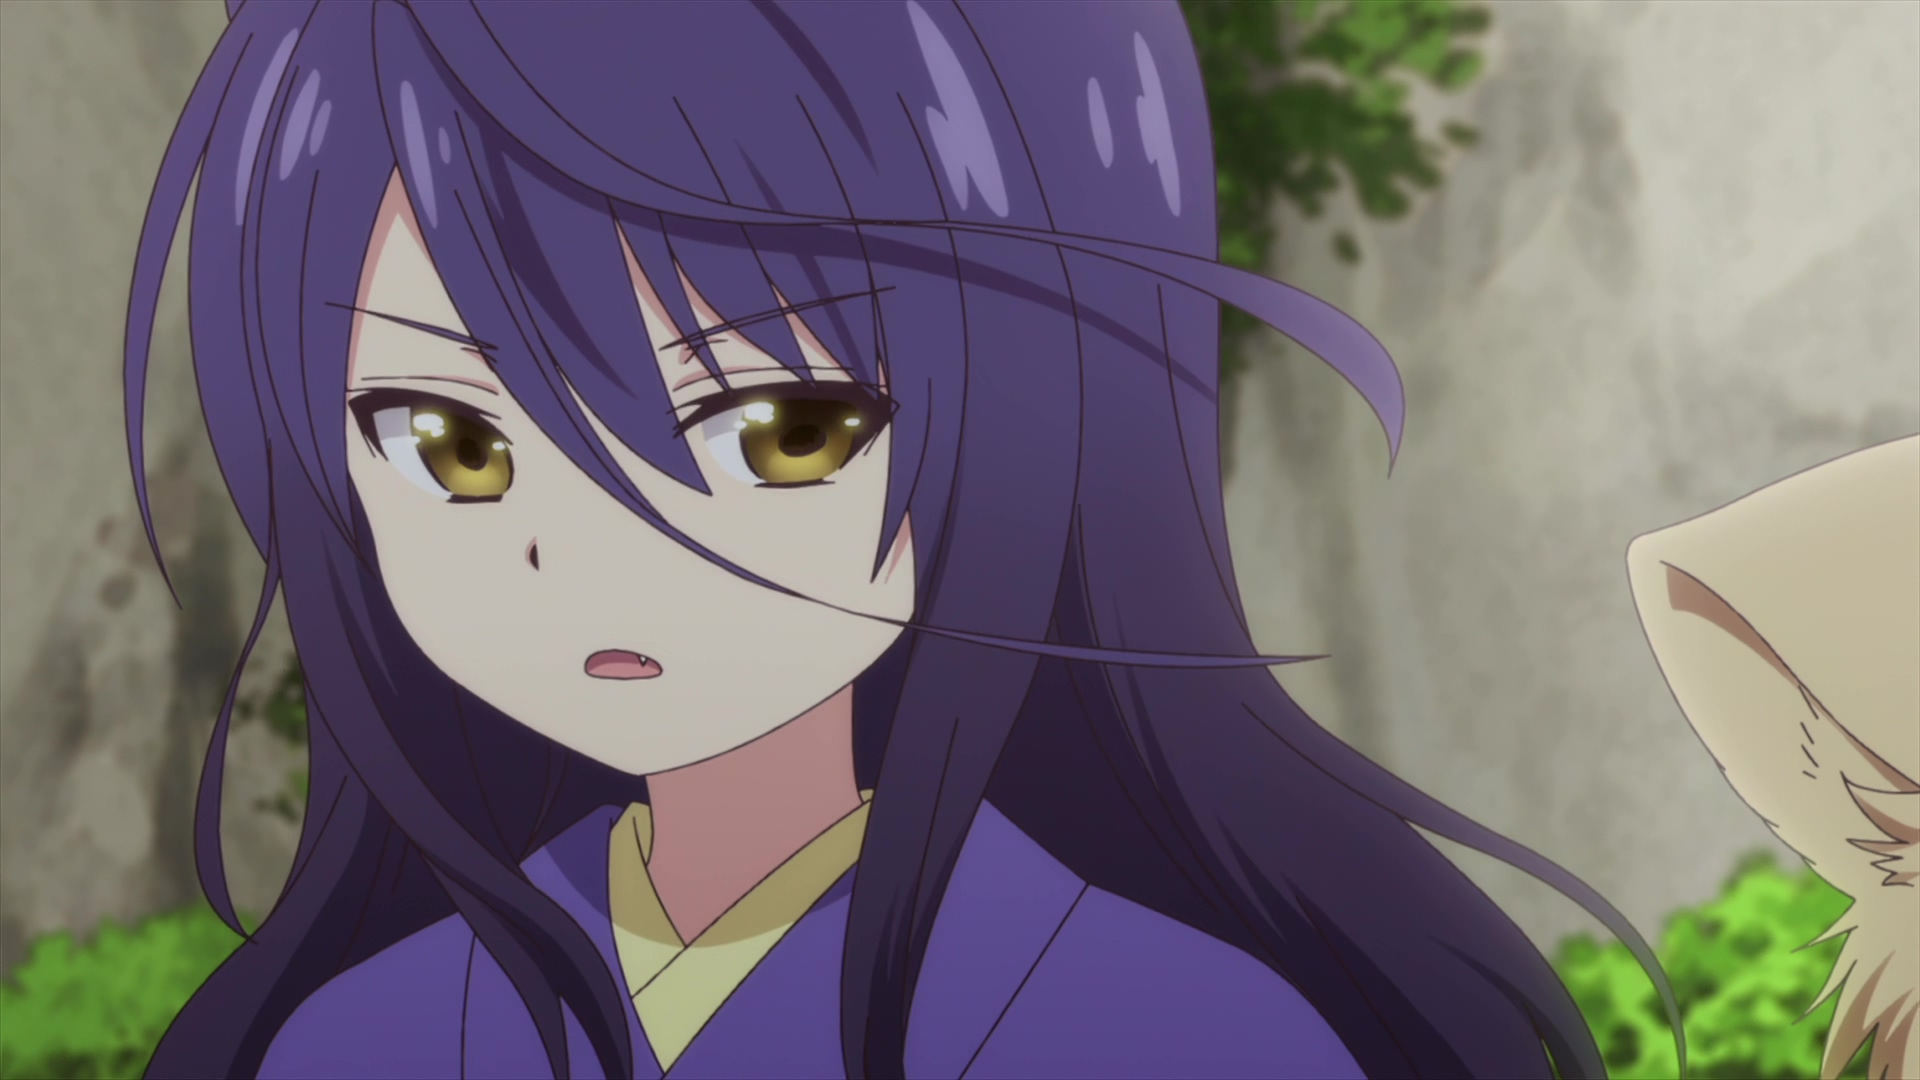皋: (123, 1, 1688, 1080)
